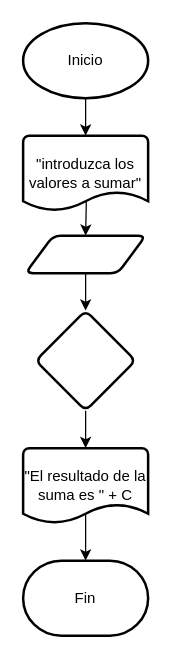
Some shapes in this 170 by 658 pixel diagram are drawn without their labels. Each missing label, with the centre of its shape:
"A+B=C" belongs at (85,360).
"A, B" belongs at (85,254).
